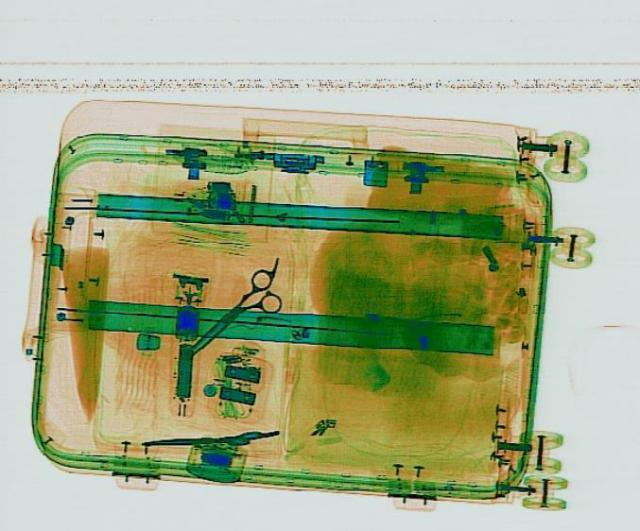Scissors: (167, 264, 299, 365)
